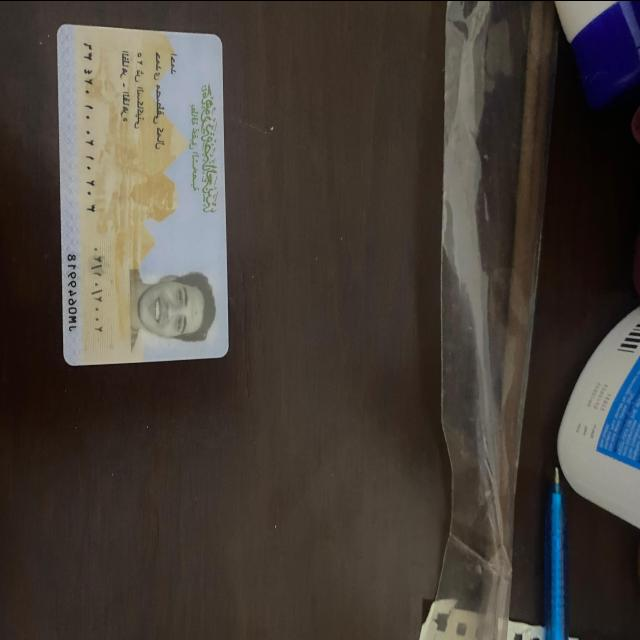ID-cards: (44, 16, 233, 371)
